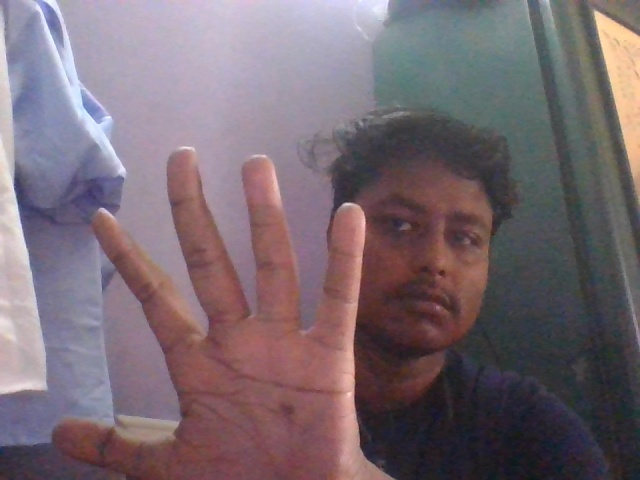hello: (47, 130, 425, 480)
